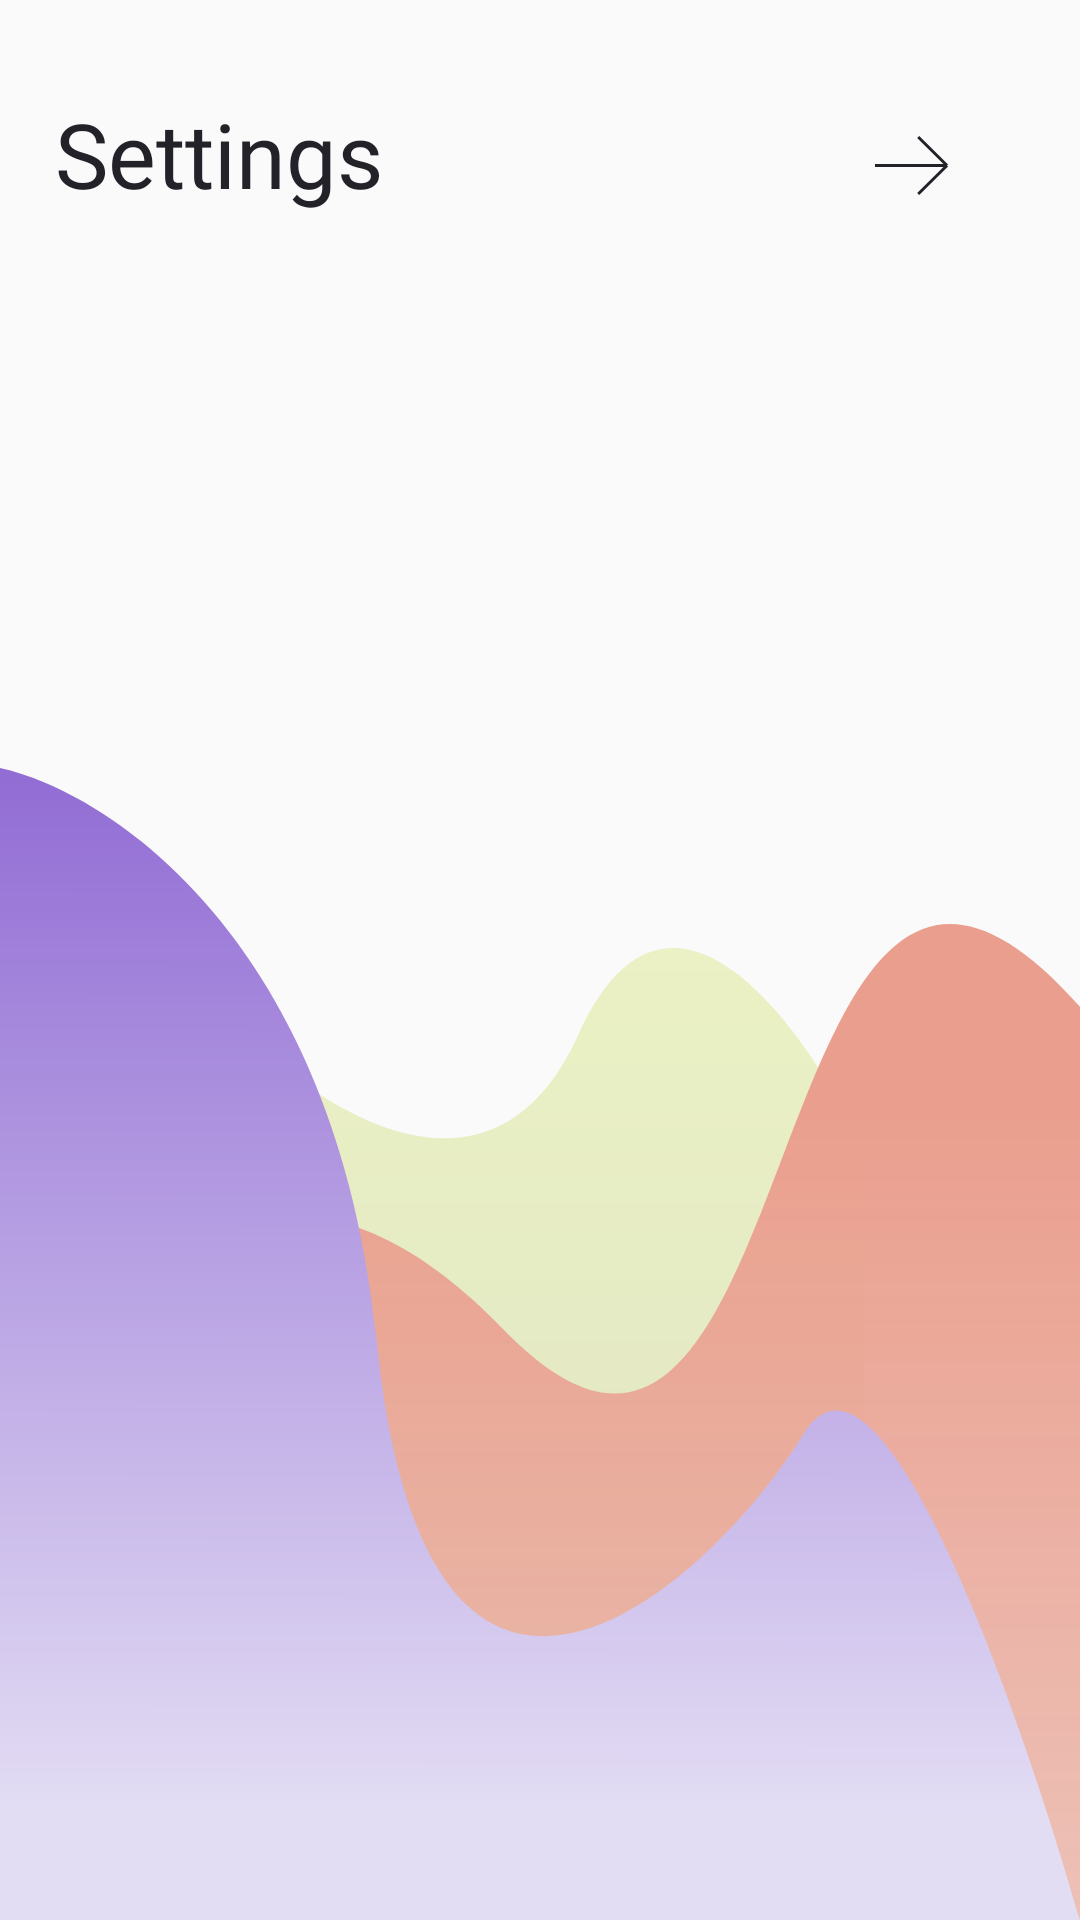

Locate icon controls on the screen. Image size 1080 x 1920, boxes as (x1, y1, x2, y2).
settings arrow nav: (875, 136, 948, 195)
